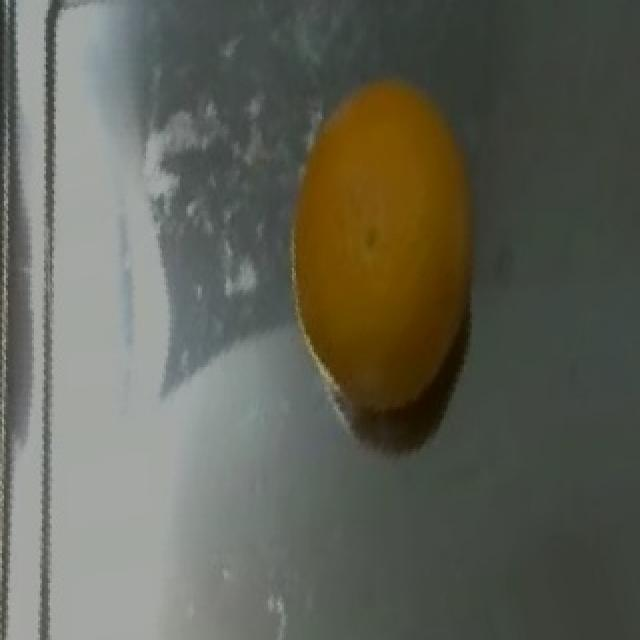Fruit: (262, 52, 504, 432)
